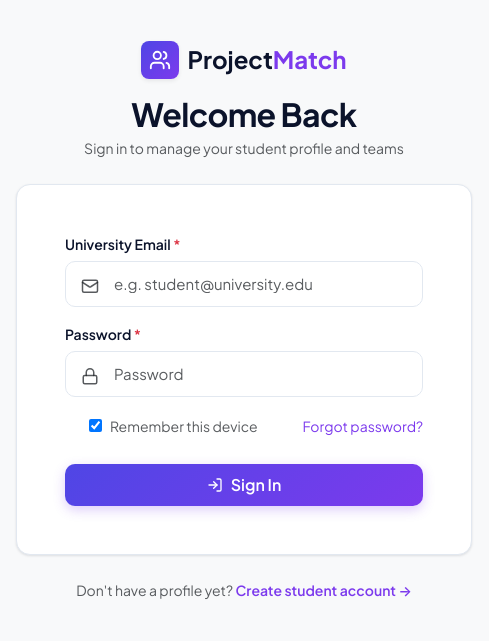
Test: LoginPage › shows an email required error when the form is submitted empty
This screenshot has width=489, height=641.
Click the button "Sign In".
click(244, 485)  # box [65,464,423,506]
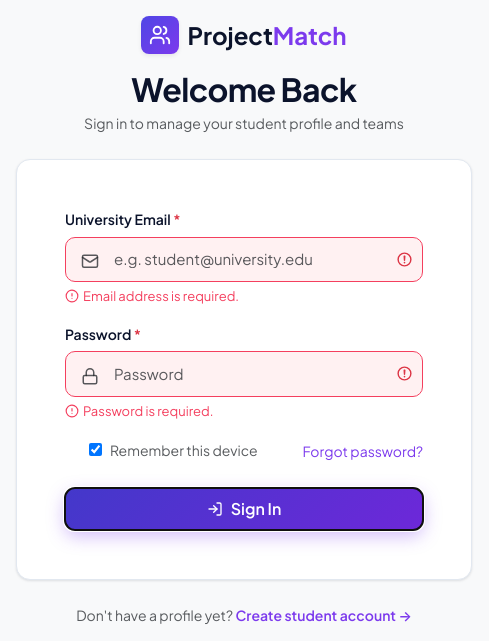
Expected: the text "Email address is required." is shown, [83,286,239,307]
